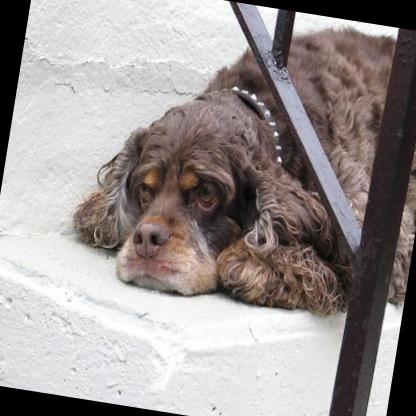cocker_spaniel: (62, 0, 416, 330)
